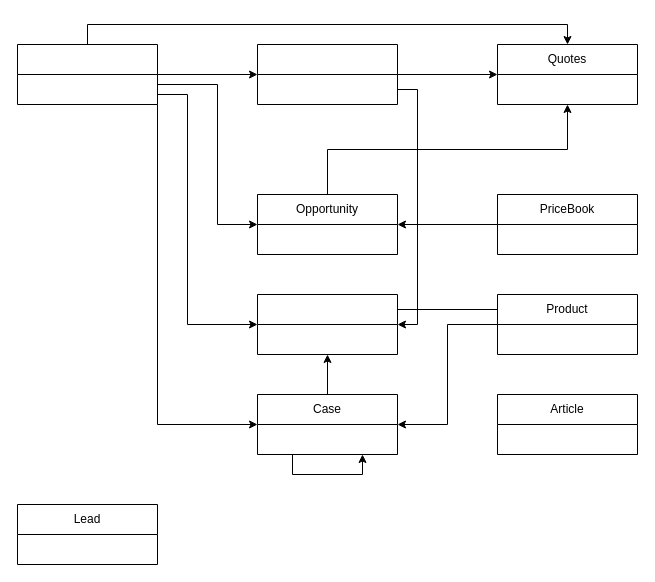
Some shapes in this 655 by 582 pixel diagram are drawn without their labels. The centre of each missing label's shape, as x and y in pixels:
"Account" goes at (x=87, y=74).
"Asset" goes at (x=327, y=324).
"Contact" goes at (x=327, y=74).
